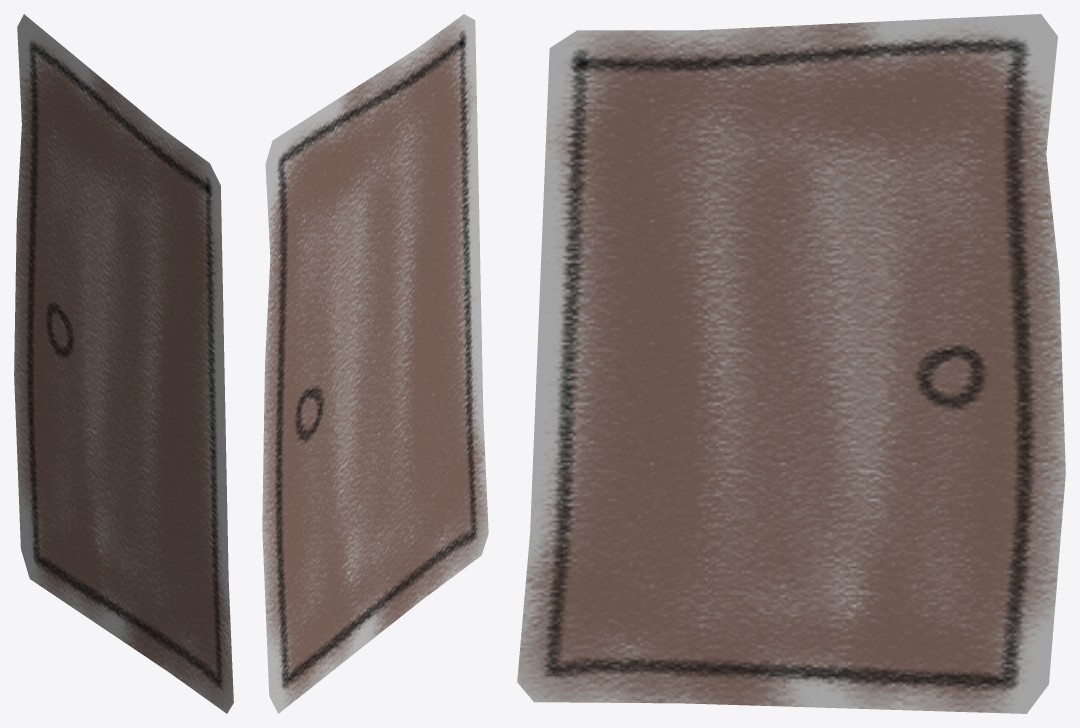
Rendered from Door.fbx.
3 views of the same model, side by side, from view 1: azimuth 30°, elevation 25°; view 2: azimuth 150°, elevation 25°; view 3: azimuth 270°, elevation 25° (orthographic). The views are drawn at different scales.
Parts seen in each view (by area): view 1: Door; view 2: Door; view 3: Door.
Boxes of the visible parts, <box> form: Door: <box>14,14,233,713</box>; Door: <box>262,14,488,713</box>; Door: <box>517,14,1065,713</box>.
Size of the model in its own units: 3.26e-05 by 118 by 84.03.
1 material, 1 textured.
